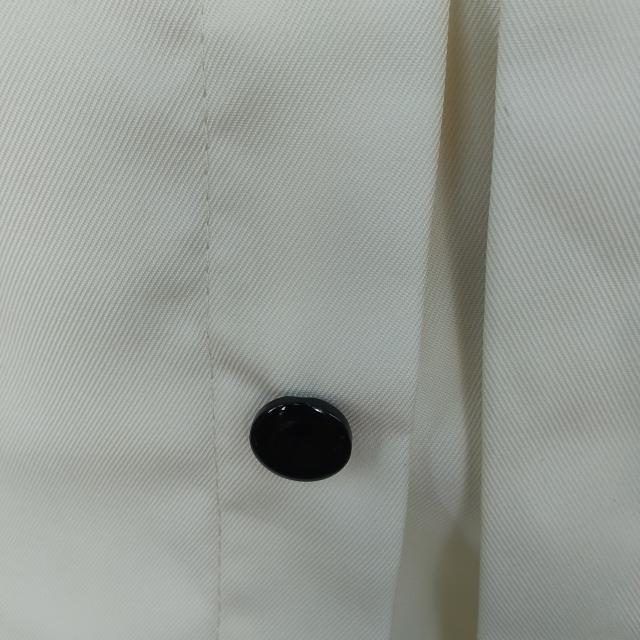education_male_uniform: (16, 22, 639, 640)
